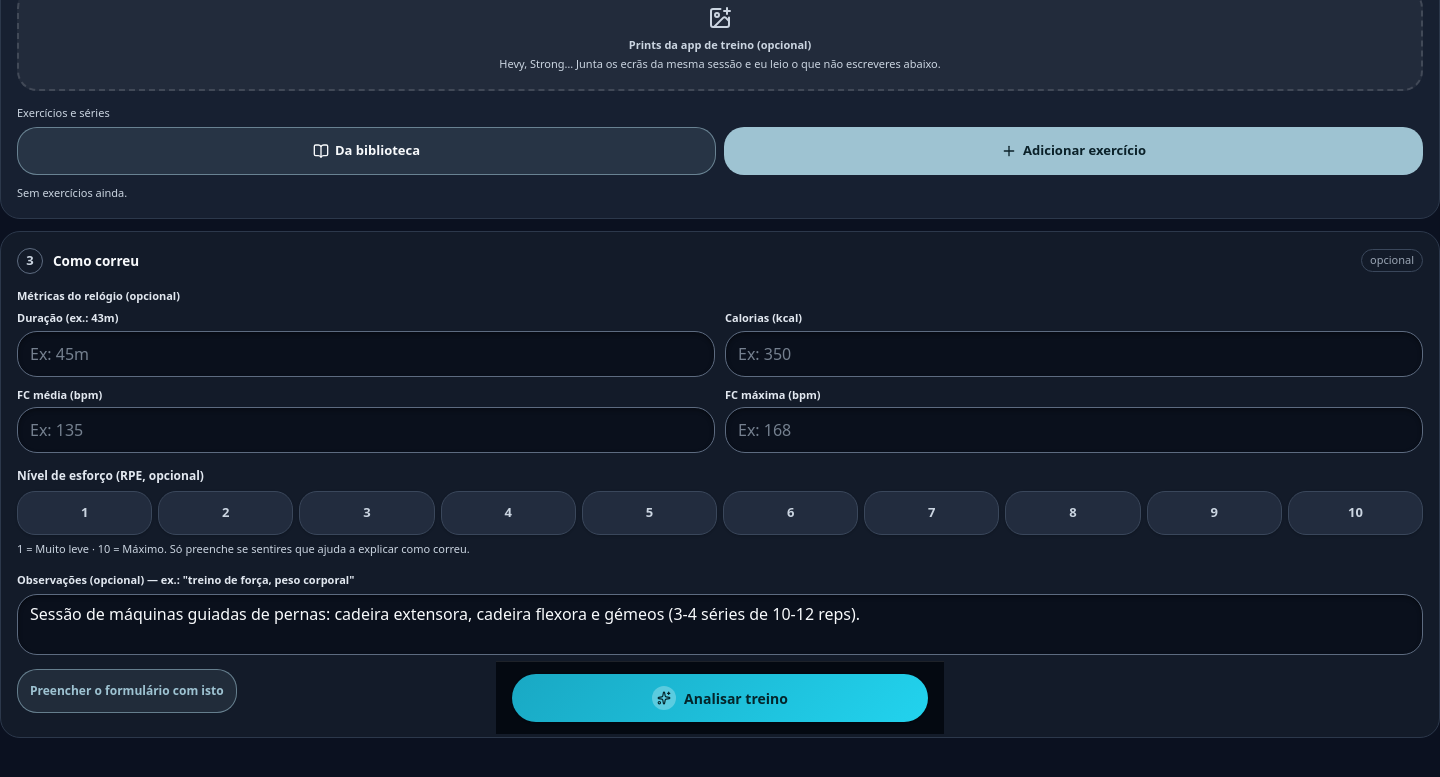
Test case: GymRegistration — plano só com texto (bug #70) › vindo do Início com um treino do plano sem prescrição, o texto vem para as notas e só é lido ao tocar no botão
(page scrolled)
expect the text box showing "Sessão de máquinas guiadas de pernas: cadeira extensora, cadeira flexora e gémeos (3-4 séries de 10-12 reps)." is shown: met, box [17, 594, 1423, 655]
Click the button "Preencher o formulário com isto" at (127, 690), box [17, 668, 237, 712]
(page scrolled)
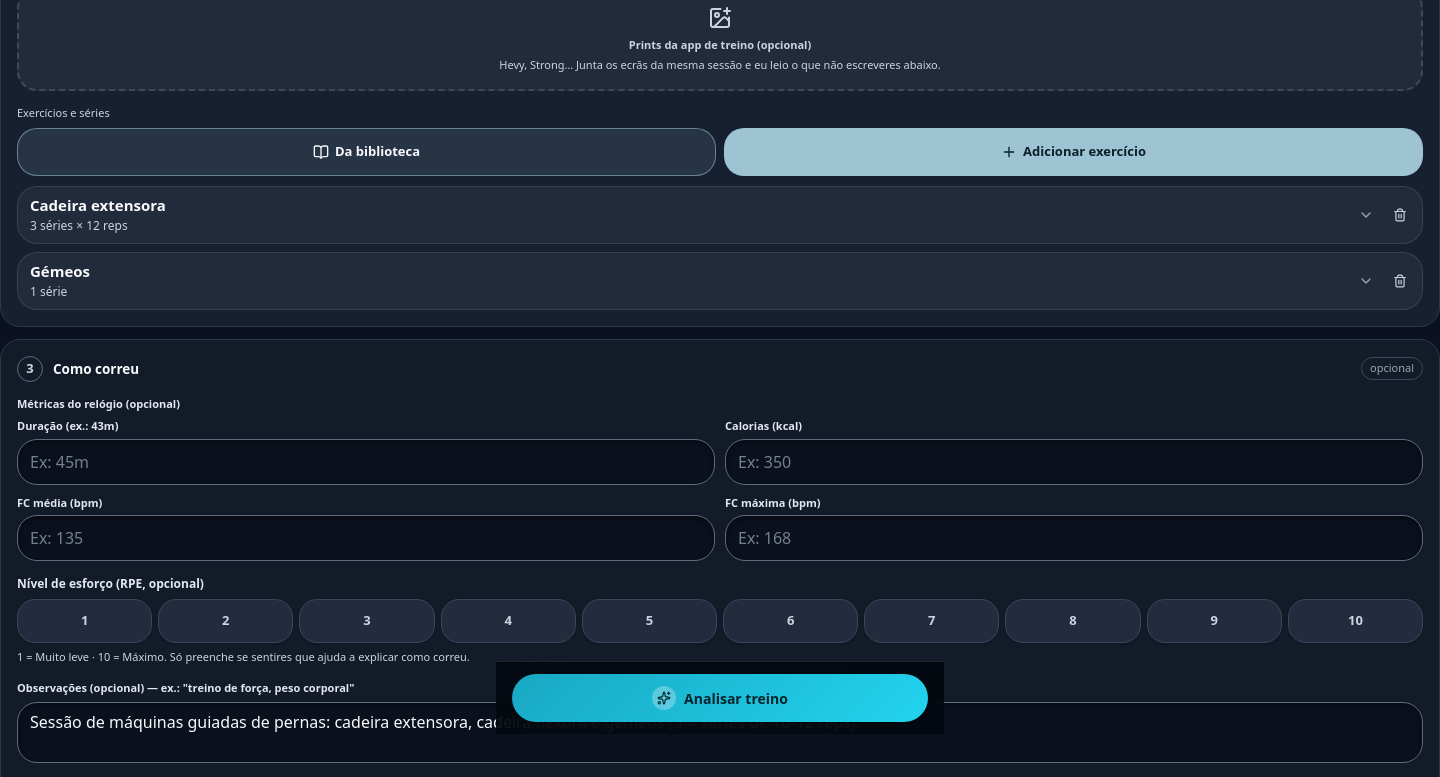
expect the element showing "Cadeira extensora" is shown: met, box [17, 186, 1423, 244]
expect the element showing "Gémeos" is shown: met, box [17, 252, 1423, 310]
